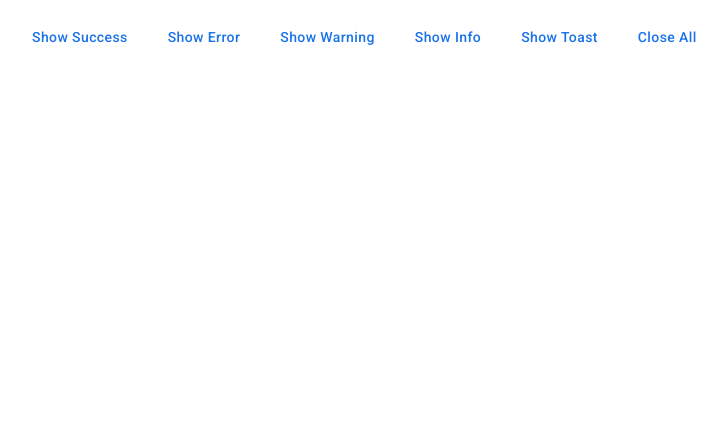
Test case: ToastProvider and useToast › respects maxToasts limit
Show 3 toasts but only last 2 should be visible
Click the button "Show Success" at (80, 37), box [12,17,148,57]
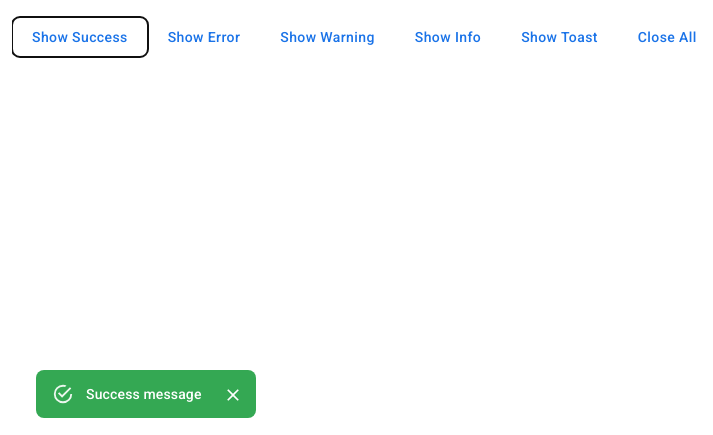
Click the button "Show Error" at (204, 37), box [148,17,260,57]
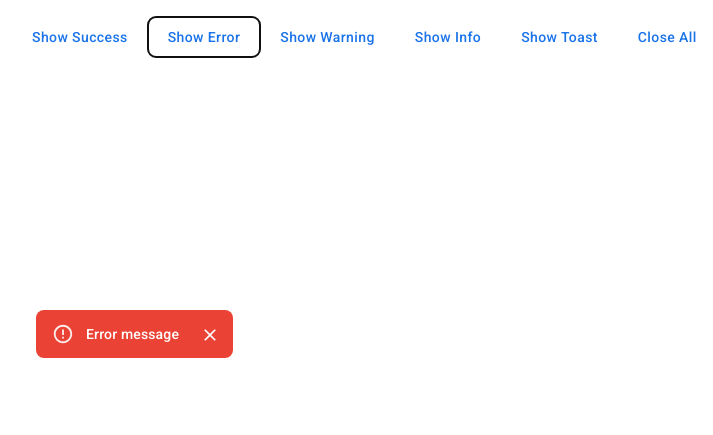
Click the button "Show Info" at (448, 37), box [395,17,501,57]
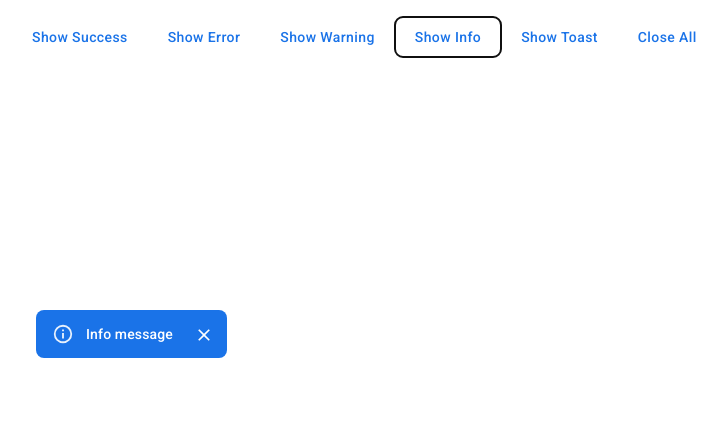
Expected: the text "Success message" is not shown
Expected: the text "Info message" is shown, [86,326,173,342]
